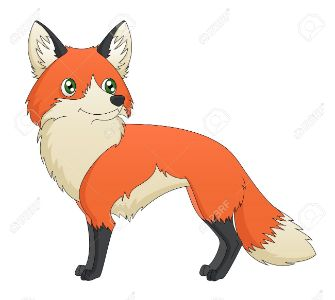fox: (22, 15, 323, 287)
